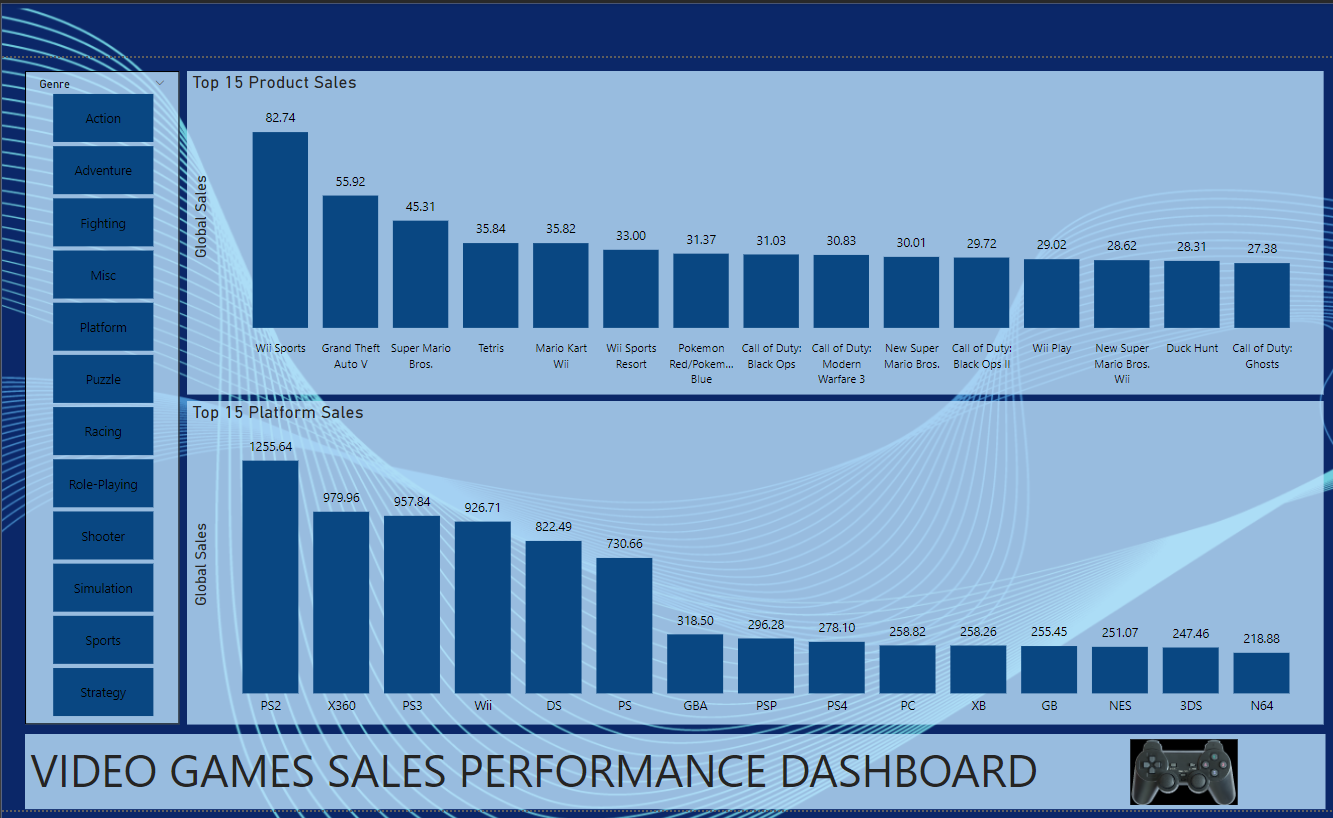

The dashboard page shown, as its layout file describes it:
{"tool":"powerbi","page":{"name":"Page 2","canvas":[1280,720],"ordinal":1},"visuals":[{"type":"textbox","box":[23,648,1246,72],"z":0},{"type":"image","box":[1054,648,158,72.8],"z":1000},{"type":"clusteredColumnChart","title":"Top 15 Product Sales","fields":{"Category":["Video Game sales.Product Name"],"Y":["Sum(Video Game sales.Global_Sales)"]},"box":[178.6,12.7,1089.1,310.1],"z":2000},{"type":"clusteredColumnChart","title":"Top 15 Platform Sales","fields":{"Y":["Sum(Video Game sales.Global_Sales)"],"Category":["Video Game sales.Platform"]},"box":[178.6,328.3,1089.1,310.1],"z":3000},{"type":"slicer","fields":{"Values":["Video Game sales.Genre"]},"box":[22.7,12.7,147.8,625.7],"z":4000}]}

Visuals, with their boxes in screenshot pixels (x1, y1, x2, y2):
textbox: bbox=(24, 728, 1303, 802)
image: bbox=(1082, 728, 1245, 803)
"Top 15 Product Sales" clusteredColumnChart: bbox=(183, 76, 1302, 394)
"Top 15 Platform Sales" clusteredColumnChart: bbox=(183, 400, 1302, 718)
slicer - Video Game sales.Genre: bbox=(23, 76, 175, 718)
